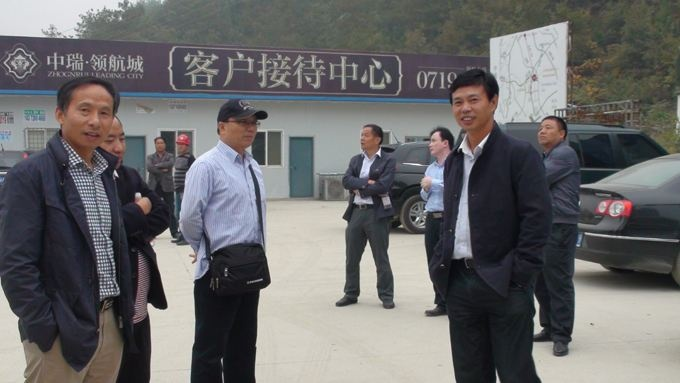none: (52, 74, 114, 145), (449, 67, 499, 135), (213, 97, 259, 153), (96, 112, 128, 169), (535, 113, 569, 151), (357, 120, 384, 154), (426, 130, 455, 160), (152, 135, 167, 154)
red: (174, 132, 191, 153)
